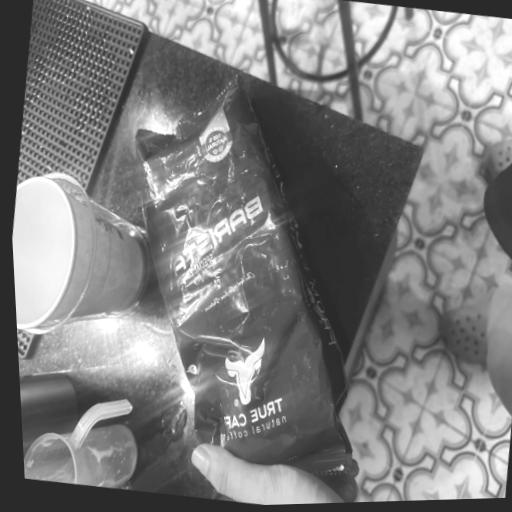cafe_hat: (135, 75, 352, 472)
